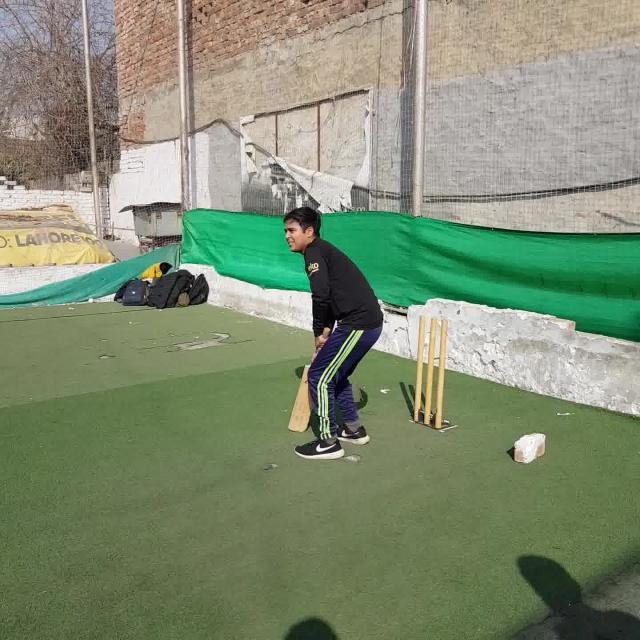bat: (288, 327, 330, 432)
